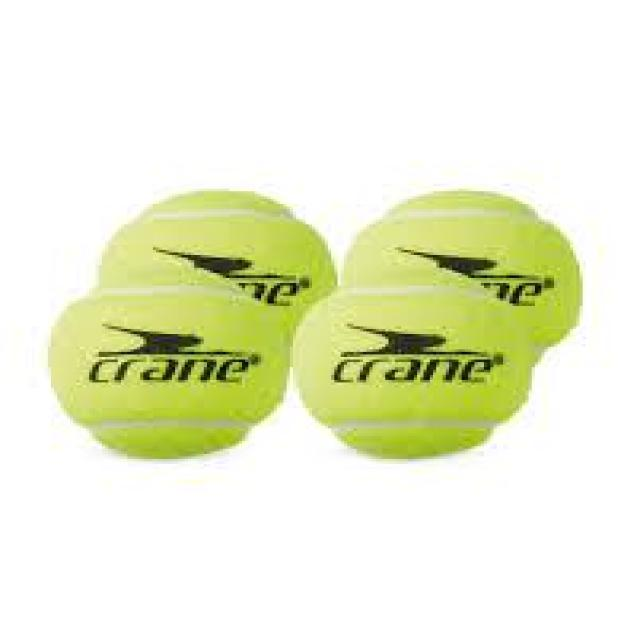ball: (290, 281, 540, 461)
